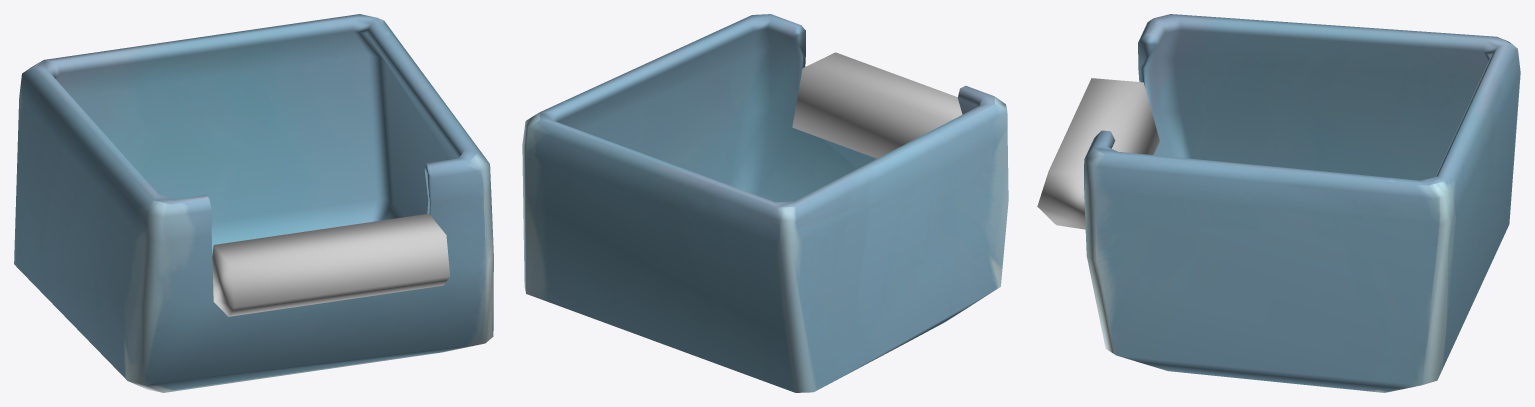
The model's file is Opening_LID.fbx.
3 renders of one model, left to right at view 1: azimuth 30°, elevation 25°; view 2: azimuth 150°, elevation 25°; view 3: azimuth 270°, elevation 25°, orthographic. The views are drawn at different scales.
Visible parts, largest first — view 1: buttonLid, hinge; view 2: buttonLid, hinge; view 3: buttonLid, hinge.
Boxes of the visible parts, x1,y1,x2,y2 form: buttonLid: (14,14,493,392); hinge: (212,213,449,316); buttonLid: (522,14,1008,392); hinge: (792,52,962,158); buttonLid: (1084,14,1520,392); hinge: (1037,78,1159,229).
Bounding box in the file's own units: 0.1117 × 0.0608 × 0.1211.
